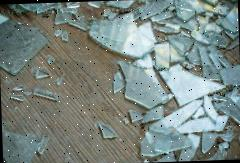glass: (86, 10, 161, 62)
